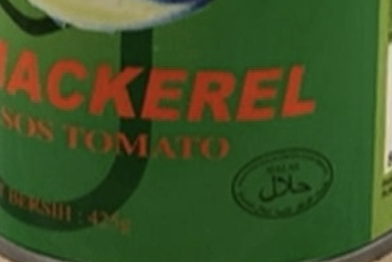halal: (258, 172, 311, 203)
